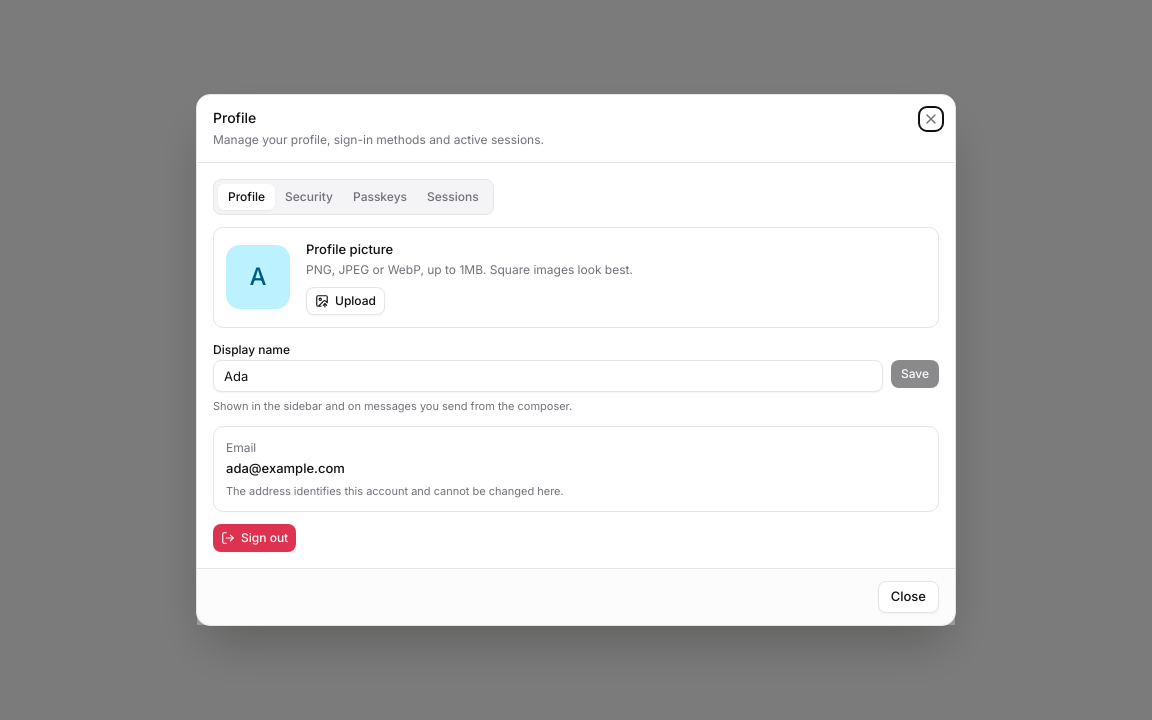
ProfileDialog › ends another session and reloads the list
Click the tab "Sessions": (453, 196) [417,184,489,210]
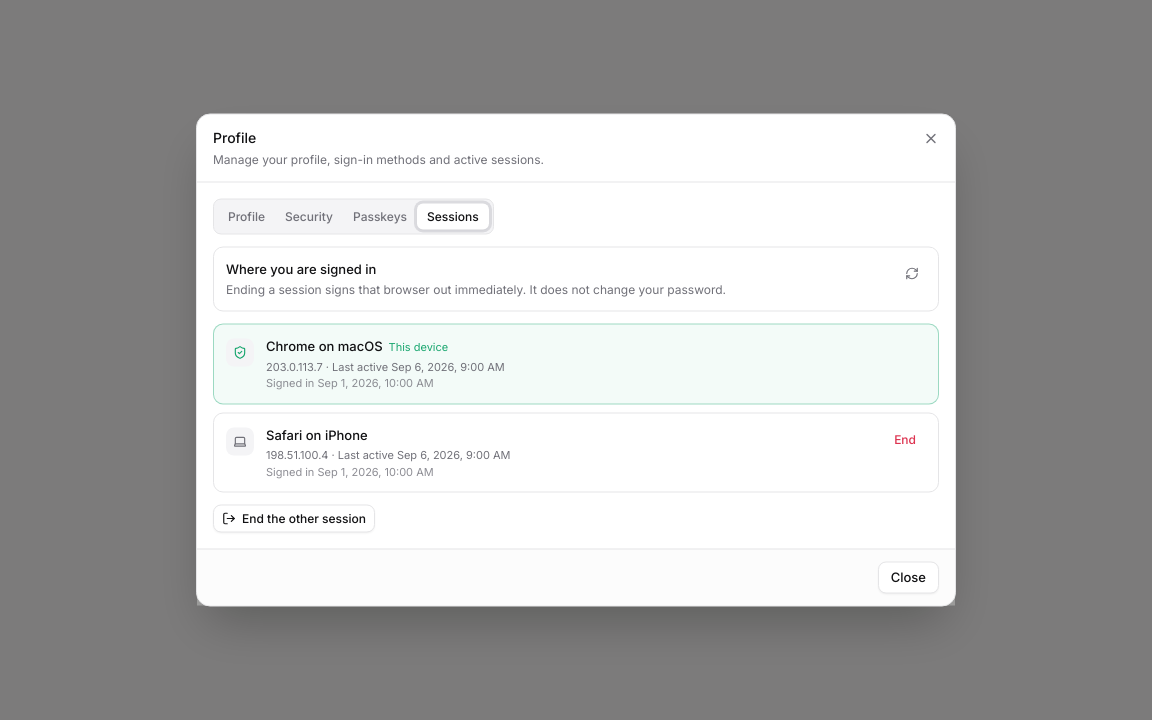
Check: the text "Safari on iPhone" is shown, box [266,426,368,442]
Click the button "End": (905, 439) [884,425,926,453]
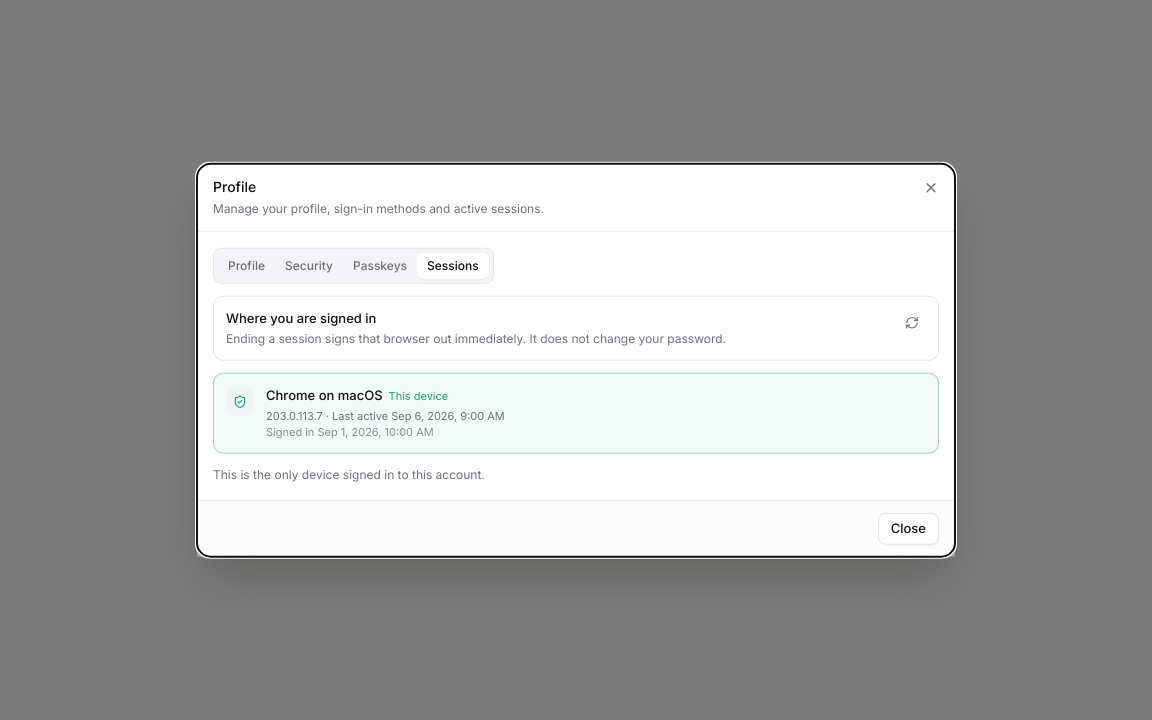
Check: the text "Safari on iPhone" is gone
